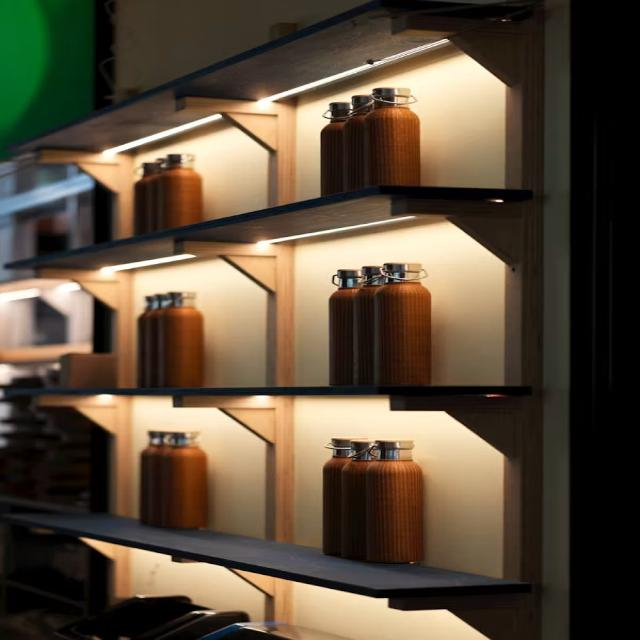Bottle: (366, 440, 423, 563), (375, 264, 430, 385), (364, 88, 420, 185), (162, 433, 207, 528), (159, 292, 203, 387), (342, 440, 375, 559), (329, 269, 361, 385), (323, 438, 353, 555), (354, 266, 382, 385), (159, 154, 202, 228), (343, 95, 373, 190), (321, 102, 351, 196), (140, 431, 168, 525), (144, 294, 170, 387), (134, 161, 161, 234), (138, 296, 156, 387), (148, 158, 165, 232)
